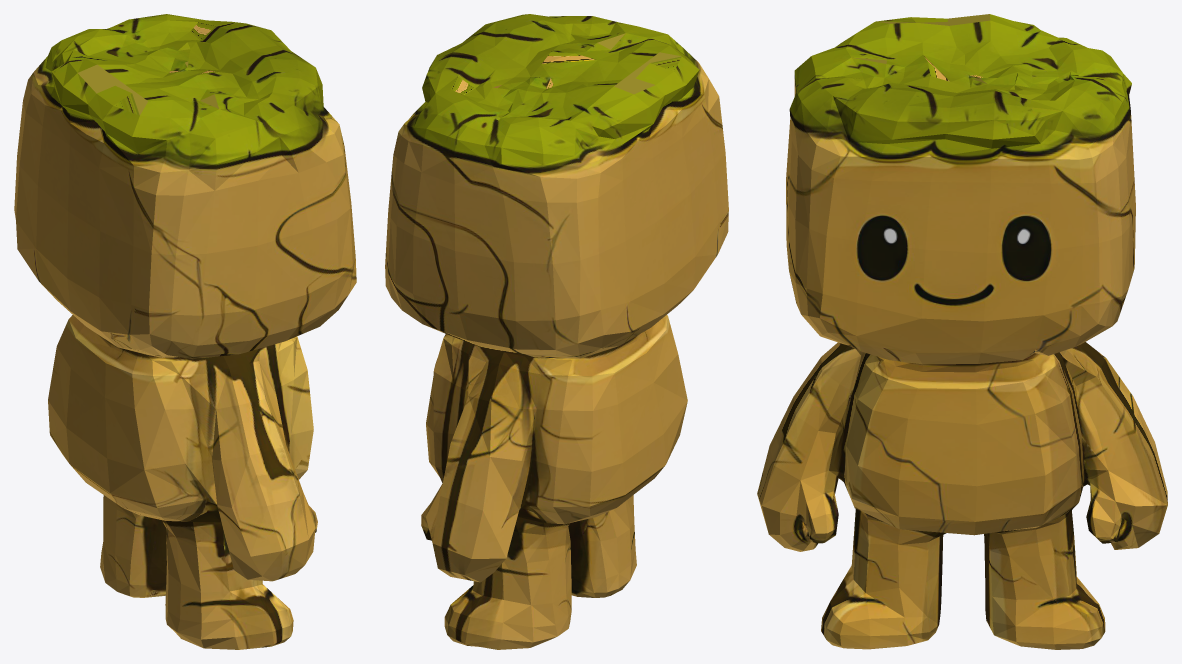
The model's file is roco2.fbx.
The picture shows the model from 3 angles, left to right: view 1: azimuth 30°, elevation 25°; view 2: azimuth 150°, elevation 25°; view 3: azimuth 270°, elevation 25°; orthographic projection. The views are drawn at different scales.
Visible parts, largest first — view 1: tripo_node_fdf8f71e-7d85-496d-9911-992e2f765c4a; view 2: tripo_node_fdf8f71e-7d85-496d-9911-992e2f765c4a; view 3: tripo_node_fdf8f71e-7d85-496d-9911-992e2f765c4a.
Part boxes in pixels (bbox=[...]): tripo_node_fdf8f71e-7d85-496d-9911-992e2f765c4a: bbox=[14, 14, 356, 649]; tripo_node_fdf8f71e-7d85-496d-9911-992e2f765c4a: bbox=[385, 14, 728, 649]; tripo_node_fdf8f71e-7d85-496d-9911-992e2f765c4a: bbox=[757, 14, 1167, 649].
Size of the model in its own units: 34.48 by 80.96 by 52.51.
Materials: 1 (1 with a texture image).
